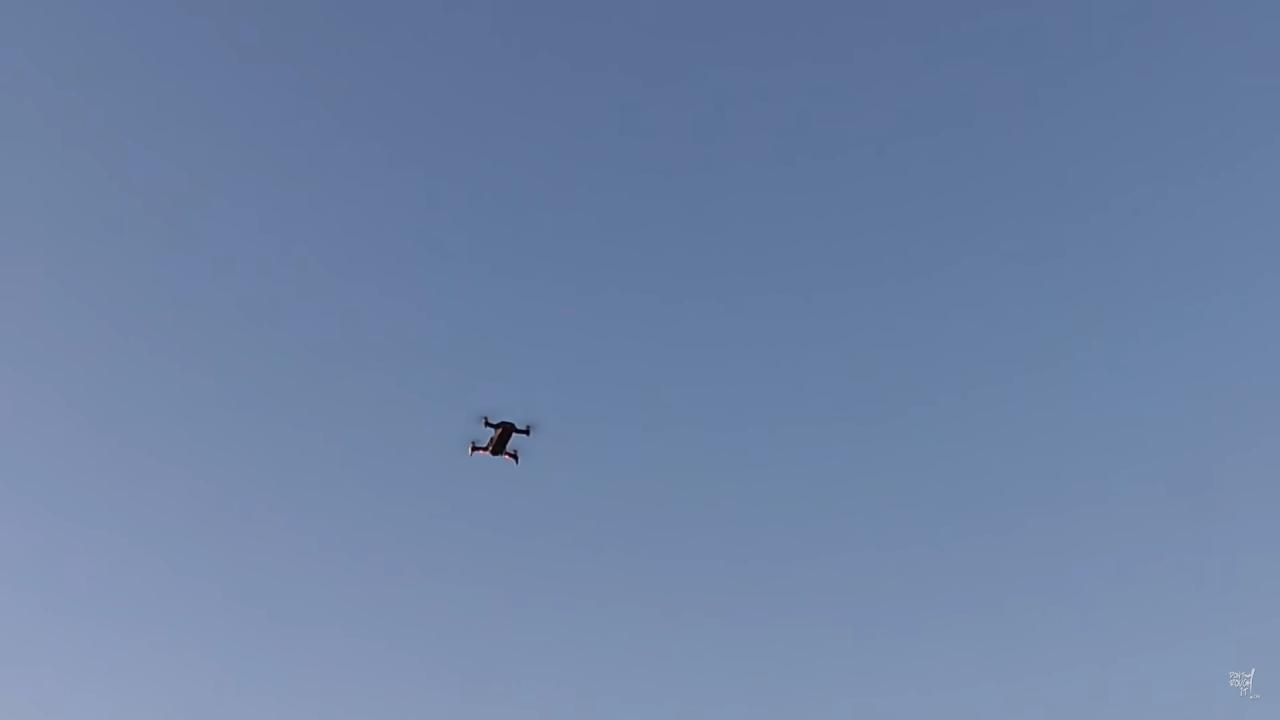Drone: (456, 404, 538, 480)
